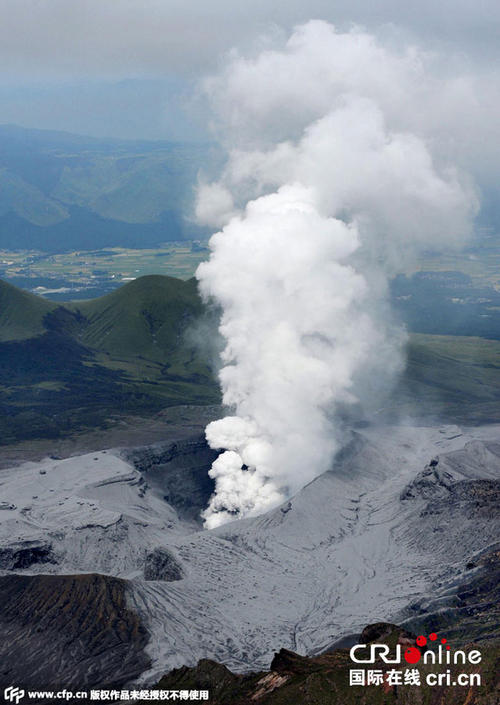smoke: (200, 51, 404, 475)
